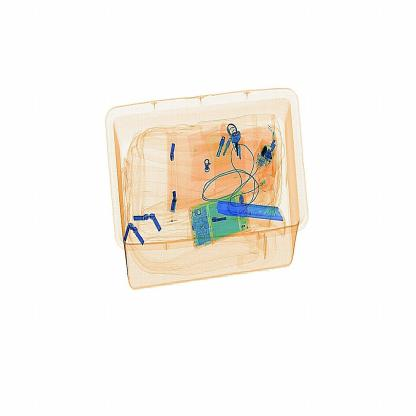pliers: (217, 197, 291, 226)
